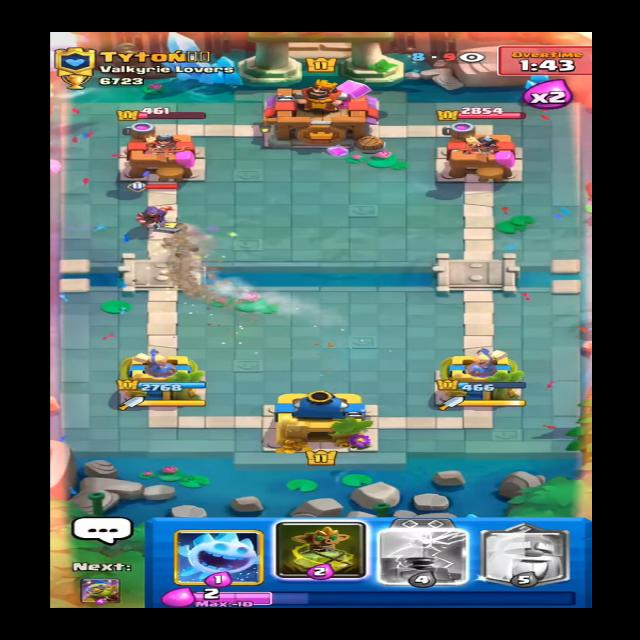Evowizard: (118, 180, 194, 225)
